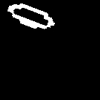chain: (8, 4, 54, 28)
